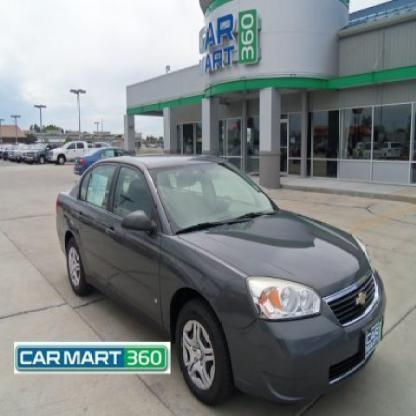Vehicle: (56, 152, 393, 412)
